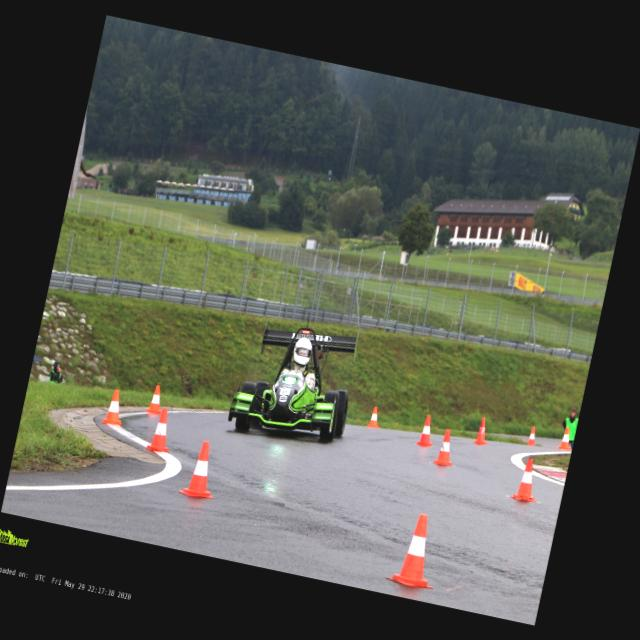orange_cone: (384, 508, 448, 590), (178, 437, 225, 501), (509, 455, 545, 503), (146, 406, 178, 454), (432, 428, 459, 467), (101, 388, 128, 426), (416, 414, 438, 447), (145, 383, 166, 414), (472, 416, 493, 446), (556, 424, 576, 452), (366, 406, 384, 428), (523, 424, 539, 448)
